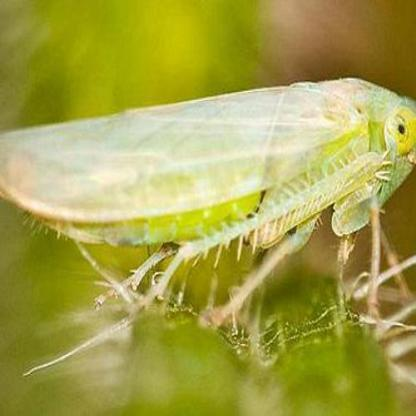green-leafhopper: (0, 78, 416, 316)
